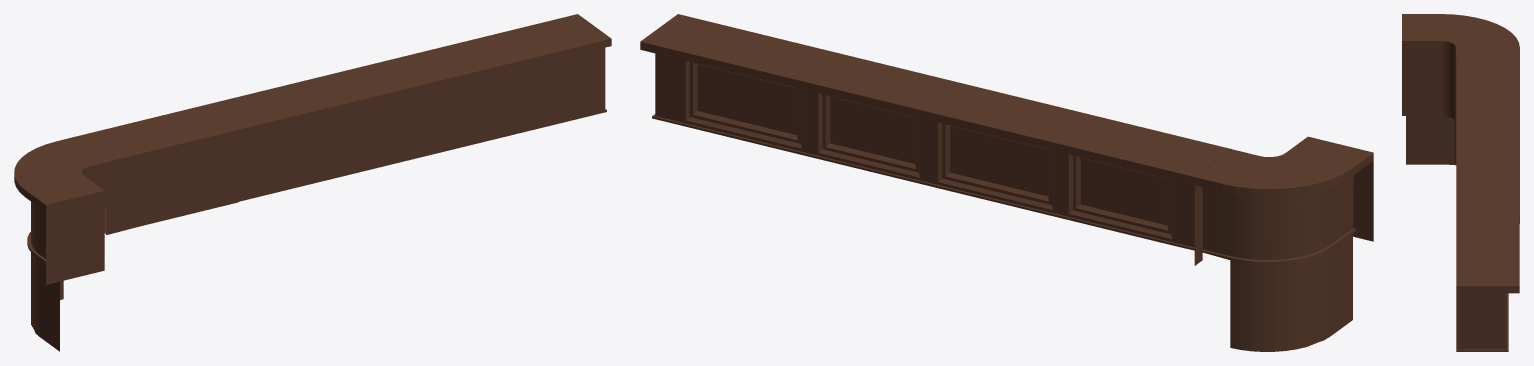
The model's file is SM_Table.fbx.
3 views of the same model, side by side, from view 1: azimuth 30°, elevation 25°; view 2: azimuth 150°, elevation 25°; view 3: azimuth 270°, elevation 25° (orthographic). The views are drawn at different scales.
Parts seen in each view (by area): view 1: Table; view 2: Table; view 3: Table.
Boxes of the visible parts, x1,y1,x2,y2 form: Table: [14, 14, 611, 351]; Table: [640, 14, 1373, 351]; Table: [1402, 14, 1519, 351].
Size of the model in its own units: 881 by 216 by 161.
